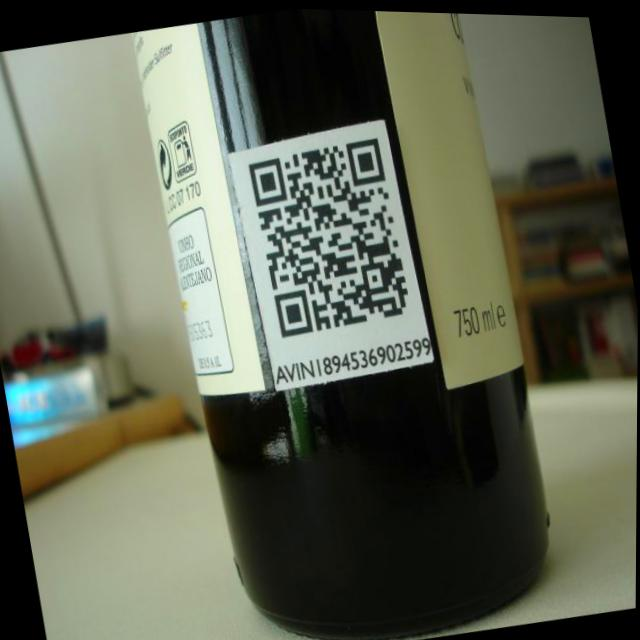qrcode: (248, 133, 413, 339)
